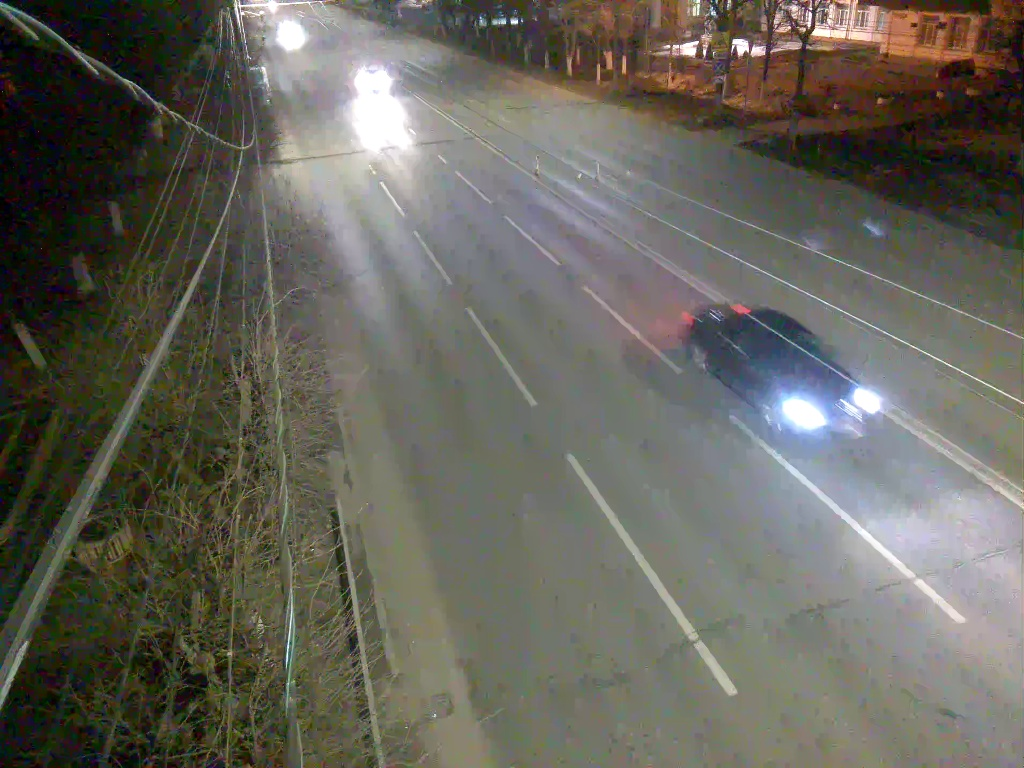car: (678, 288, 892, 468), (346, 61, 401, 104)
